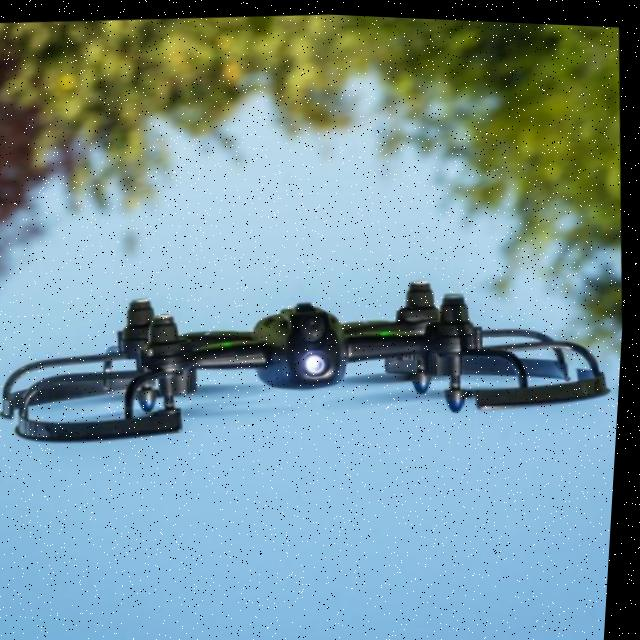drones: (0, 248, 628, 507)
